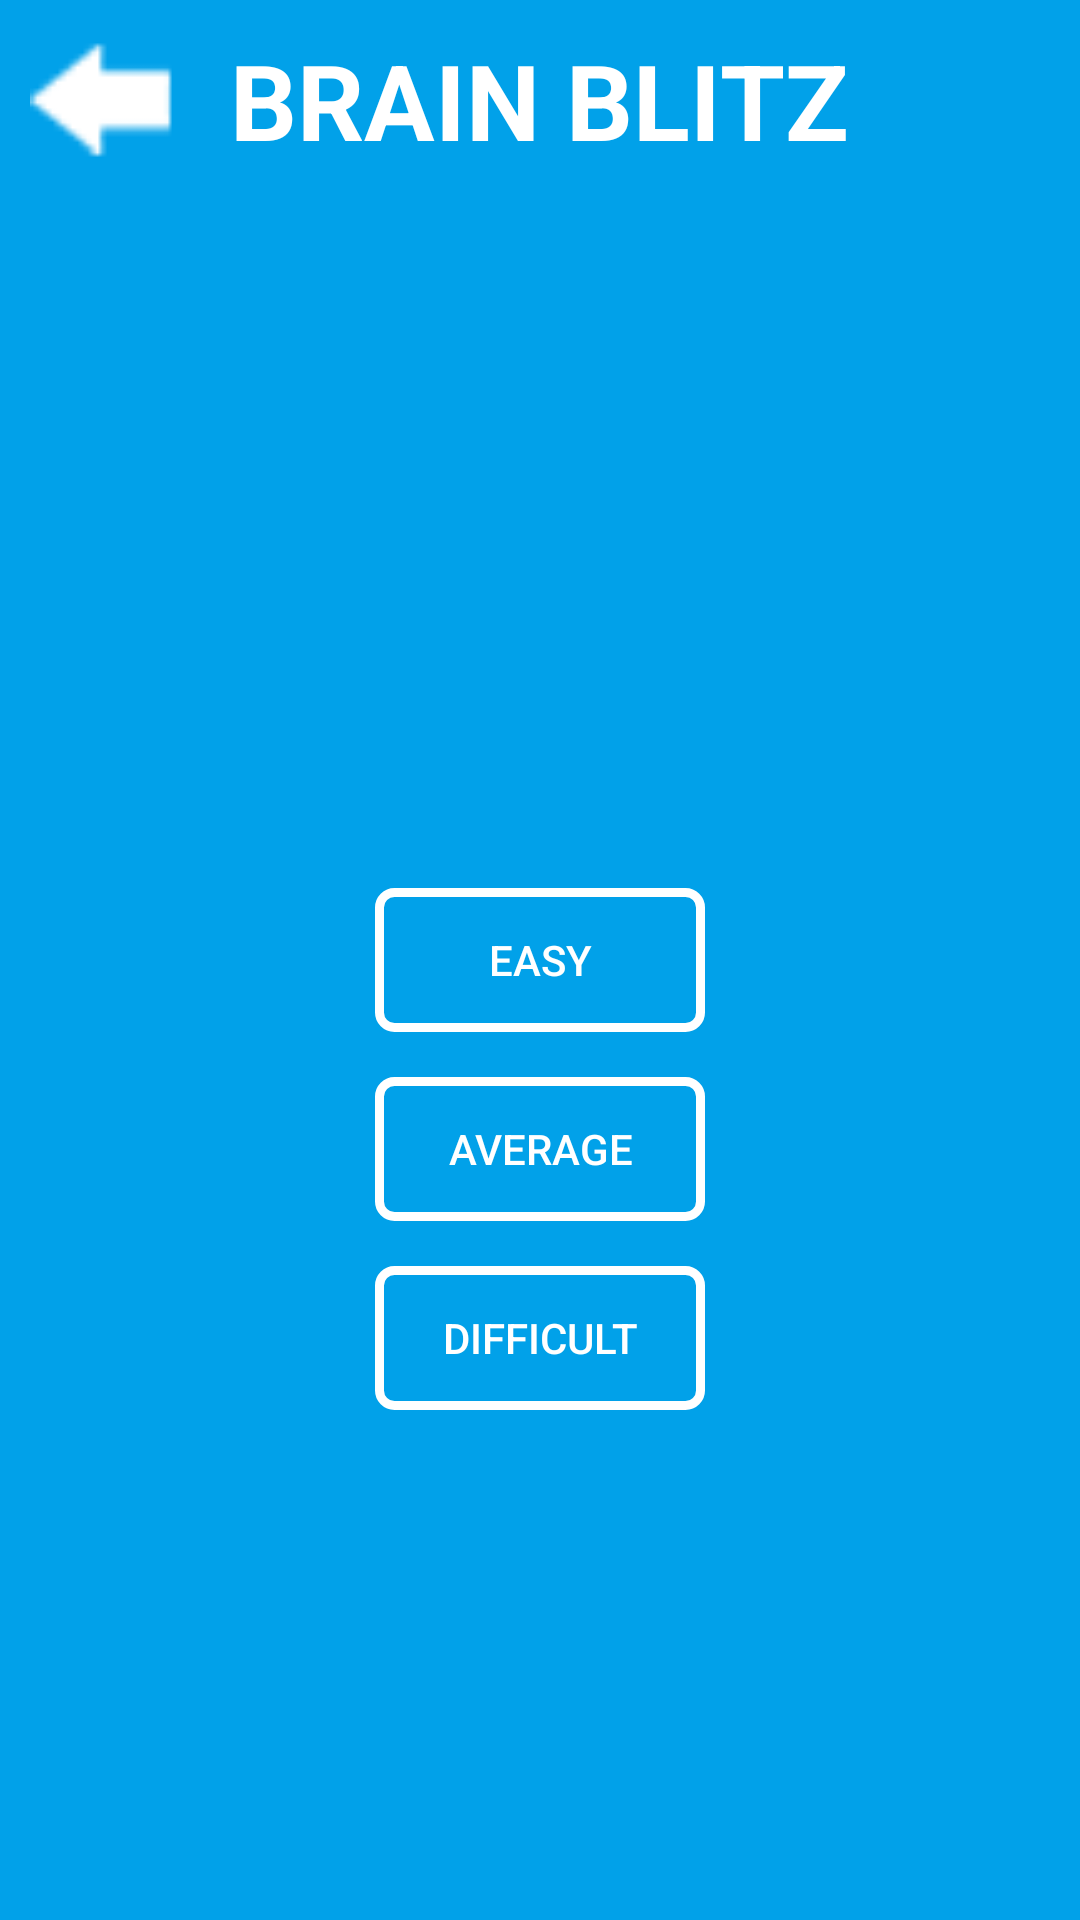

Point at icon controls on the screen. Image size 1080×1920, points as (x=x, y=y).
arrow ar: (x=101, y=100)
